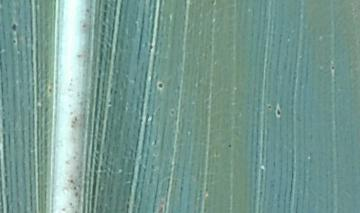tarspot: (7, 20, 21, 33), (155, 79, 166, 91), (225, 141, 235, 152), (274, 106, 283, 118), (329, 62, 337, 73), (264, 101, 272, 112), (10, 35, 17, 47), (147, 42, 156, 51)
